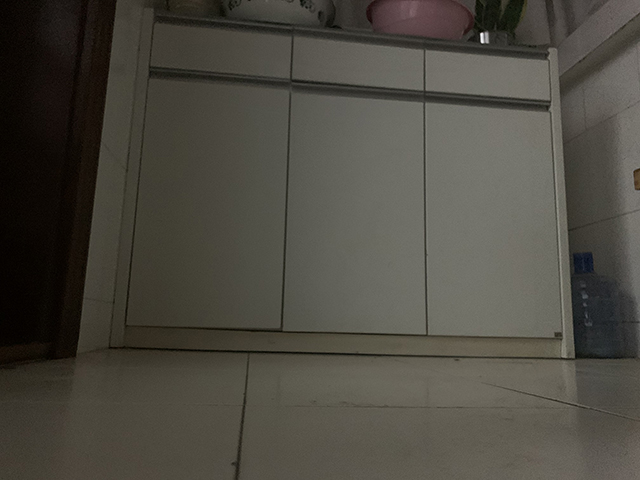cabinet: (111, 5, 578, 361)
